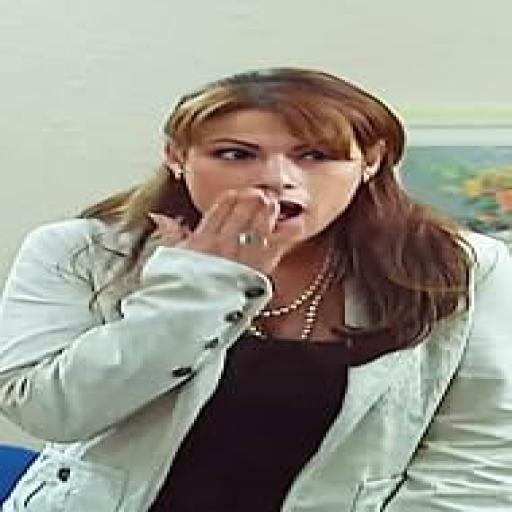zeineb: (181, 103, 347, 271)
